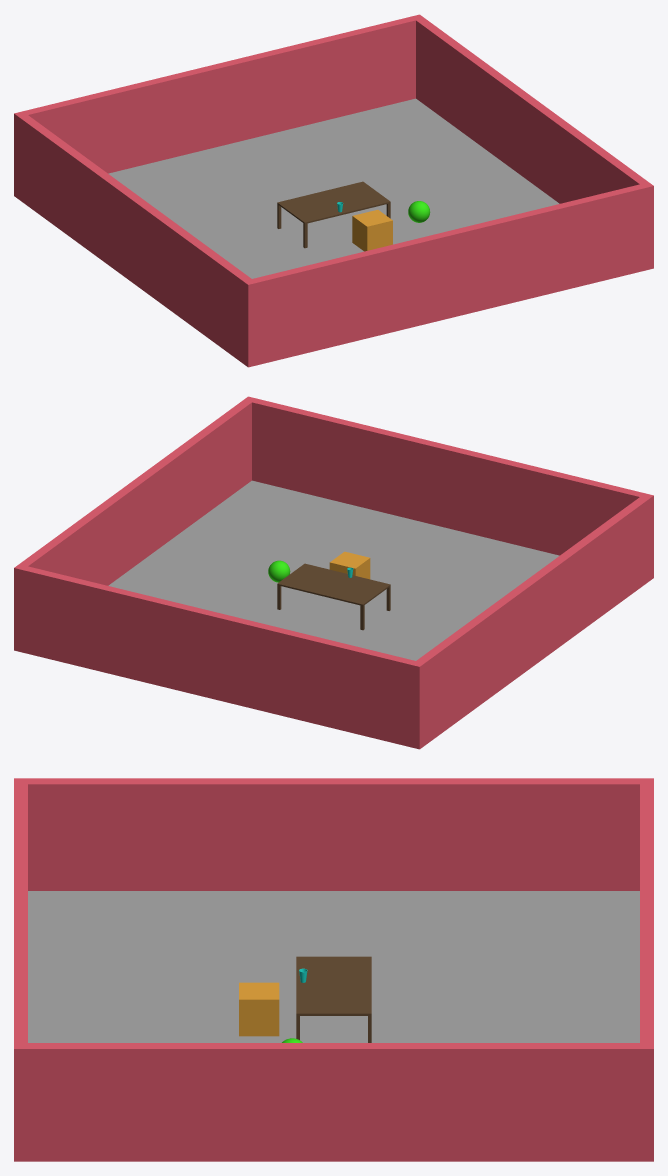
The model's file is environment.glb.
3 renders of one model, top to bottom at view 1: azimuth 30°, elevation 25°; view 2: azimuth 150°, elevation 25°; view 3: azimuth 270°, elevation 25°, orthographic. The views are drawn at different scales.
Parts seen in each view (by area): view 1: wall_back, floor, table, object_box; view 2: wall_back, floor, table, object_box; view 3: wall_back, floor, table, object_box.
Part boxes in pixels (x1,y1,x2,y2): wall_back: [14, 14, 653, 367]; floor: [108, 98, 559, 278]; table: [277, 181, 390, 248]; object_box: [352, 209, 392, 251]; wall_back: [14, 396, 653, 749]; floor: [108, 480, 559, 660]; table: [277, 563, 390, 630]; object_box: [329, 551, 370, 579]; wall_back: [14, 778, 653, 1161]; floor: [28, 891, 639, 1042]; table: [296, 956, 371, 1042]; object_box: [239, 982, 279, 1036].
Bounding box in the file's own units: 16.99 × 3.3 × 16.99.
